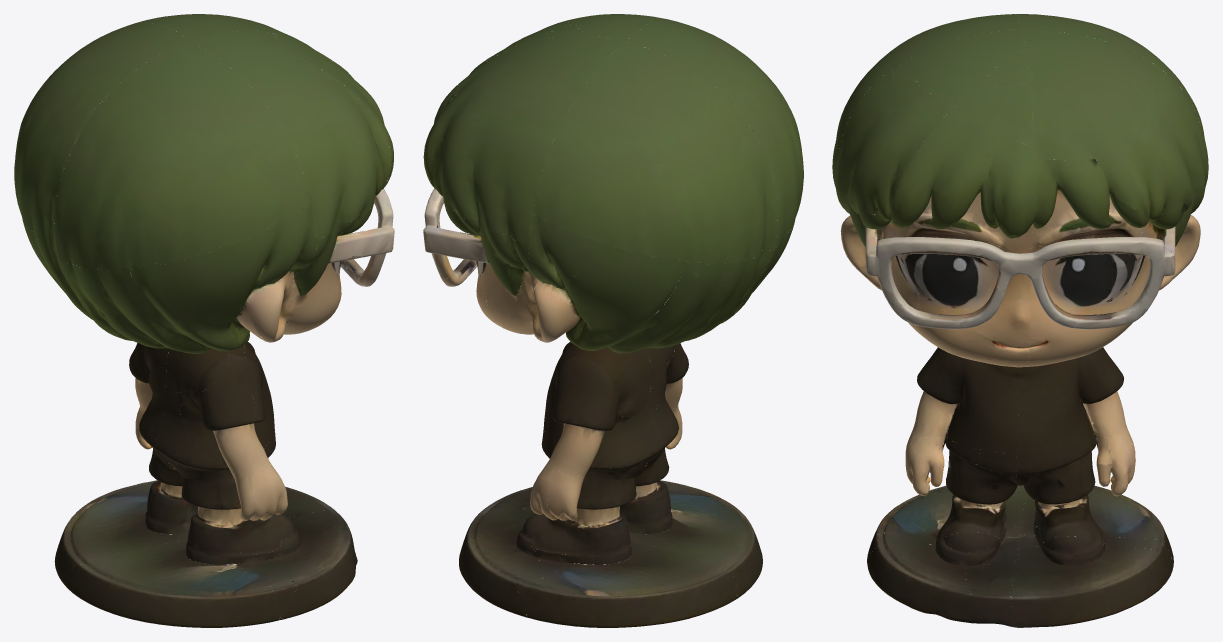
File: apix.glb
3 views of the same model, side by side, from view 1: azimuth 30°, elevation 25°; view 2: azimuth 150°, elevation 25°; view 3: azimuth 270°, elevation 25° (orthographic).
Visible parts, largest first — view 1: apix; view 2: apix; view 3: apix.
Boxes of the visible parts, bbox=[...] form: apix: bbox=[14, 14, 394, 627]; apix: bbox=[423, 14, 803, 627]; apix: bbox=[832, 14, 1208, 627].
Size of the model in its own units: 0.4414 by 0.7162 by 0.4619.
Materials: 1 (1 with a texture image).
